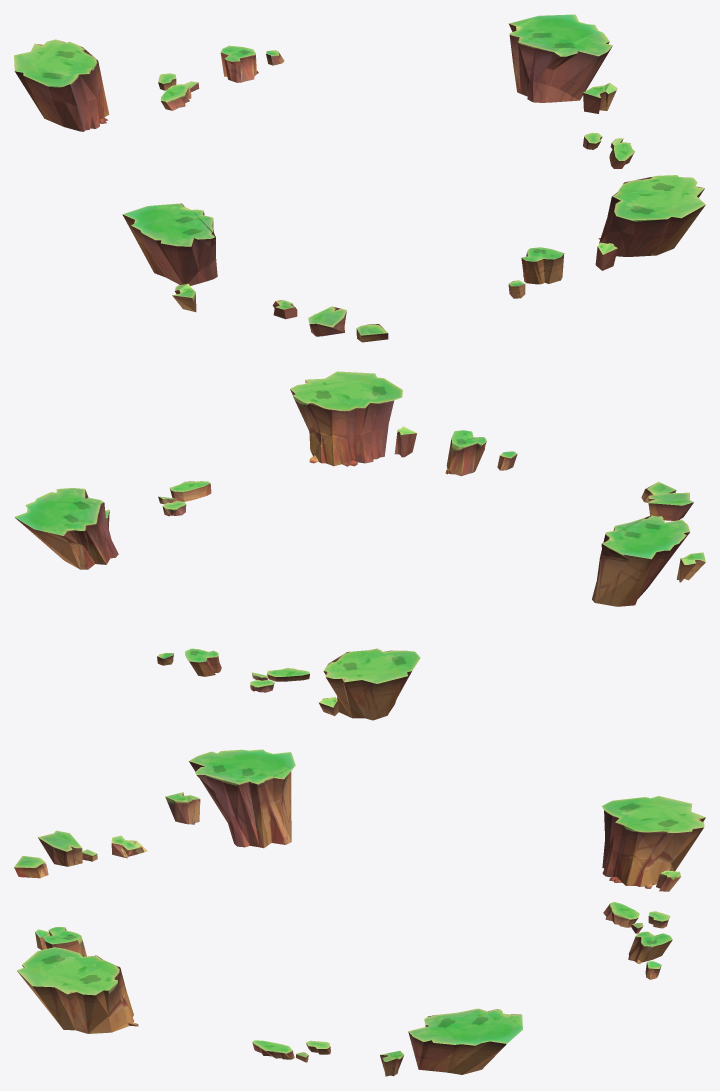
The model's file is Islands.obj.
The picture shows the model from 3 angles, top to bottom: view 1: azimuth 30°, elevation 25°; view 2: azimuth 150°, elevation 25°; view 3: azimuth 270°, elevation 25°; orthographic projection. The views are drawn at different scales.
Visible parts, largest first — view 1: Islands; view 2: Islands; view 3: Islands.
Boxes of the visible parts, x1,y1,x2,y2 form: Islands: [14, 14, 705, 342]; Islands: [14, 371, 705, 720]; Islands: [14, 749, 705, 1076].
Size of the model in its own units: 32.89 by 3.46 by 34.15.
1 material, 1 textured.
